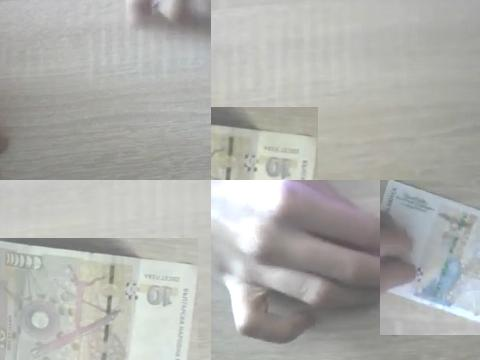10leva: (0, 238, 198, 360), (211, 117, 318, 180)
20leva: (380, 180, 480, 323)
